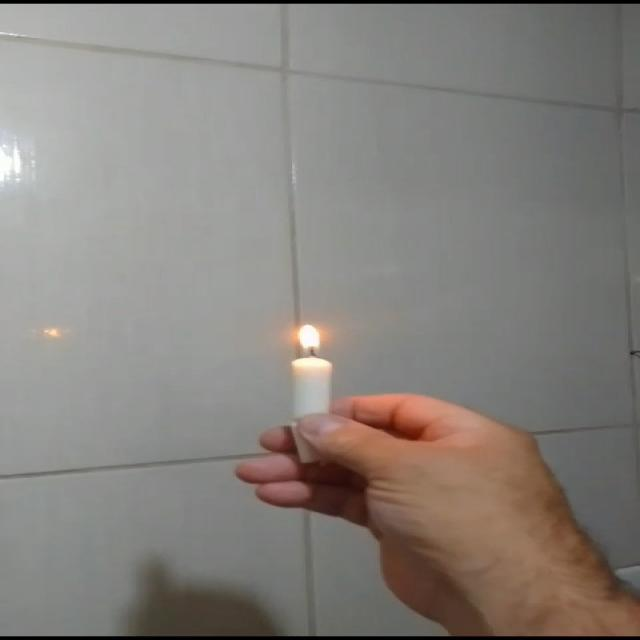fogo-ypXI: (294, 322, 326, 356)
